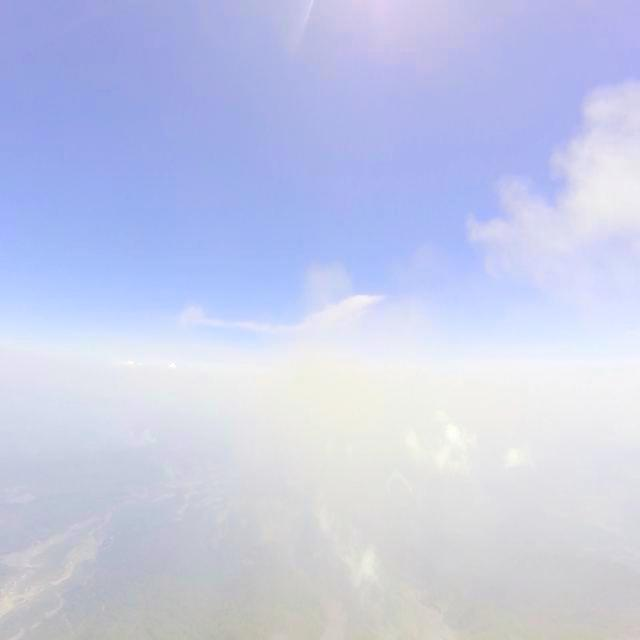Plume: (473, 22, 636, 342)
